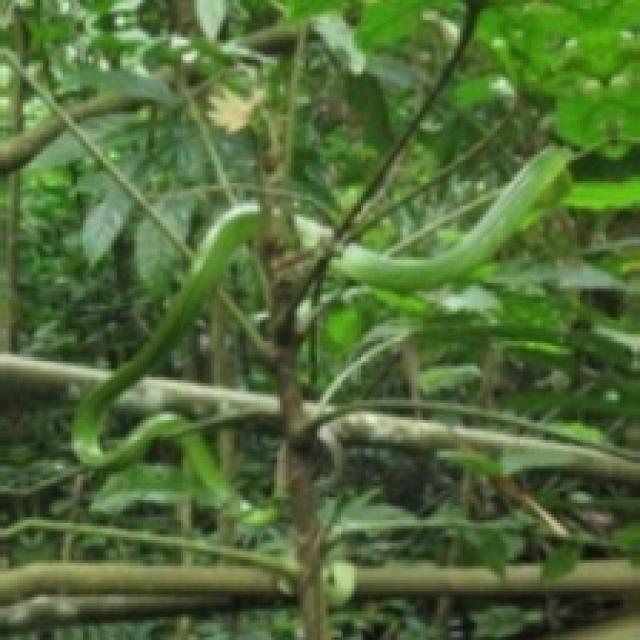red-tailed green ratsnake: (71, 205, 258, 504), (71, 203, 260, 466), (331, 146, 569, 289), (331, 146, 566, 286)
